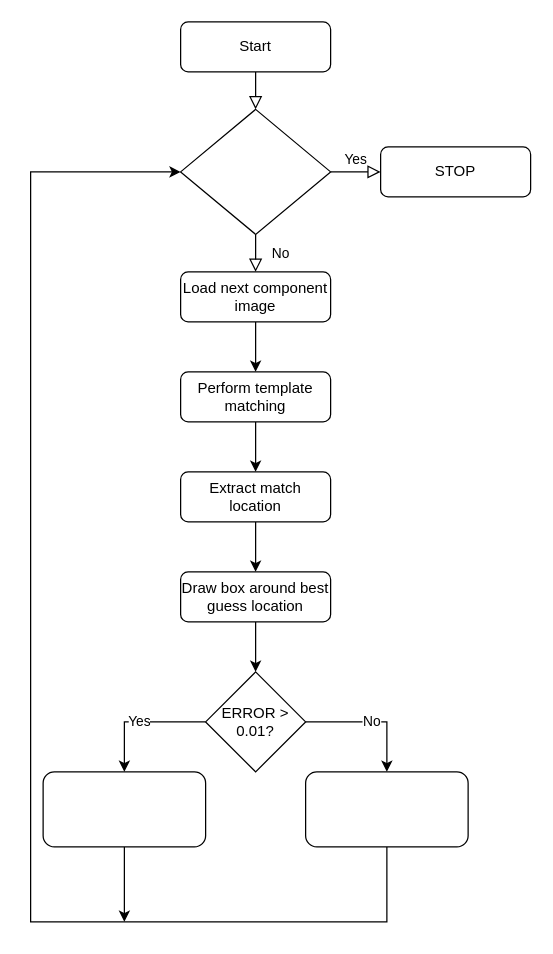
Image size: 553x954. Some labels were removed from this diagram. Here are the shapes that lost their labels. From the top down, the box of each, then its label:
(179, 108, 331, 234): All components checked?
(42, 771, 206, 847): Display "Component Missing", increment missing component count
(304, 771, 468, 847): Increment component count, display coordinates
